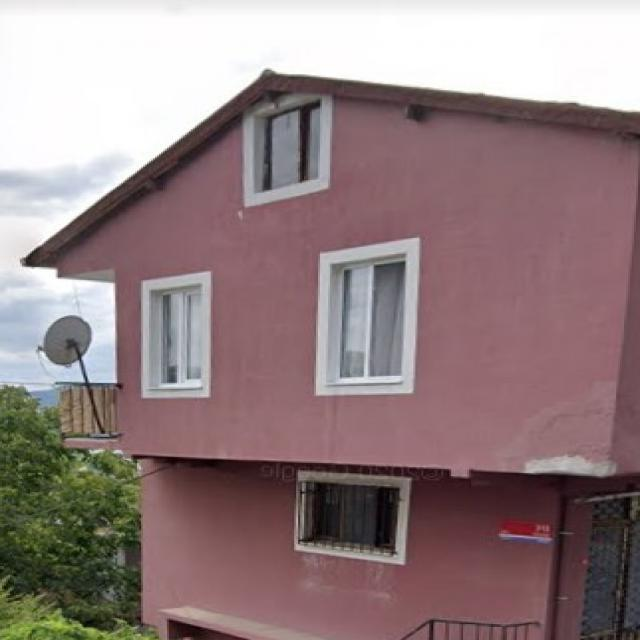Building: (22, 71, 640, 640)
